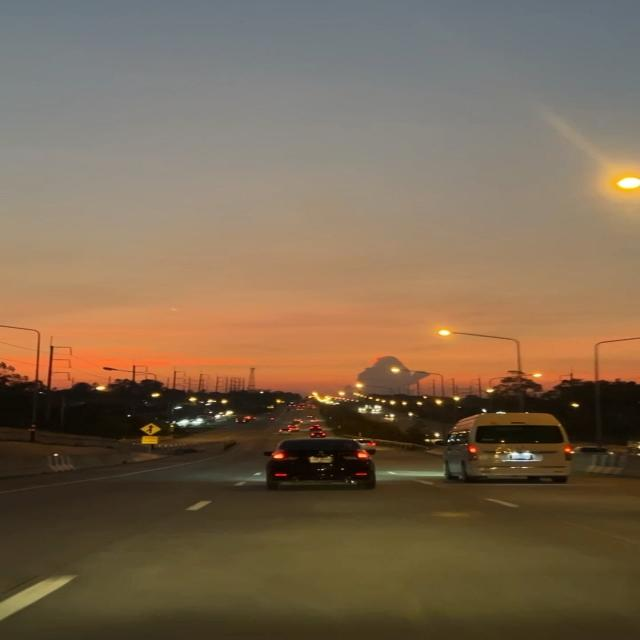Poth-hole: (85, 477, 628, 632)
